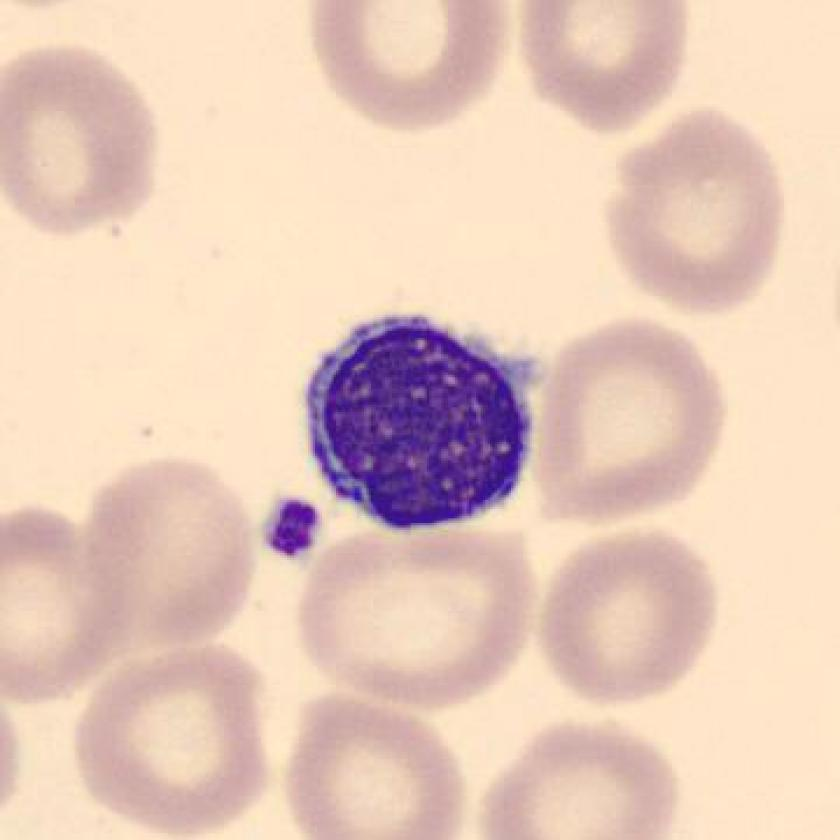lymphocyte: (288, 295, 547, 549)
